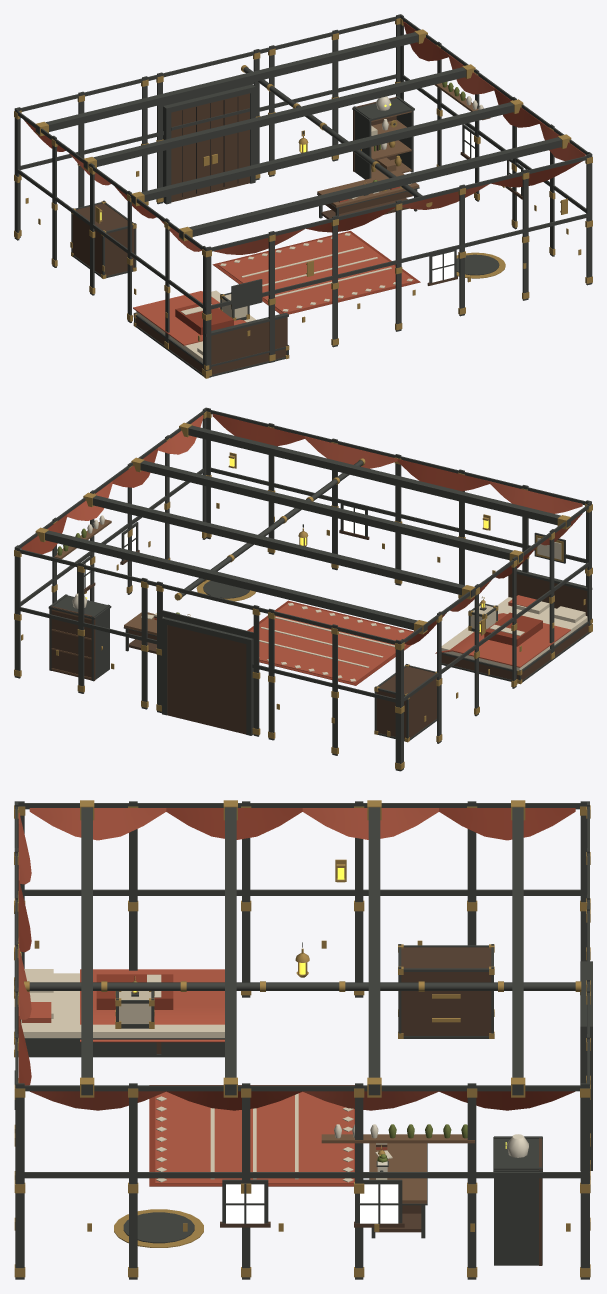
Rendered from home_set.glb.
3 renders of one model, top to bottom at view 1: azimuth 30°, elevation 25°; view 2: azimuth 150°, elevation 25°; view 3: azimuth 270°, elevation 25°, orthographic. The views are drawn at different scales.
Parts seen in each view (by area): view 1: home_set; view 2: home_set; view 3: home_set.
Part boxes in pixels (x1=…): home_set: x1=14, y1=14, x2=592, y2=378; home_set: x1=14, y1=407, x2=592, y2=771; home_set: x1=14, y1=800, x2=592, y2=1279.
Bounding box in the file's own units: 14.08 × 4.51 × 12.1.
